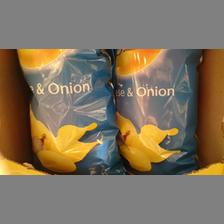chips: (16, 50, 119, 172), (114, 50, 203, 173)
